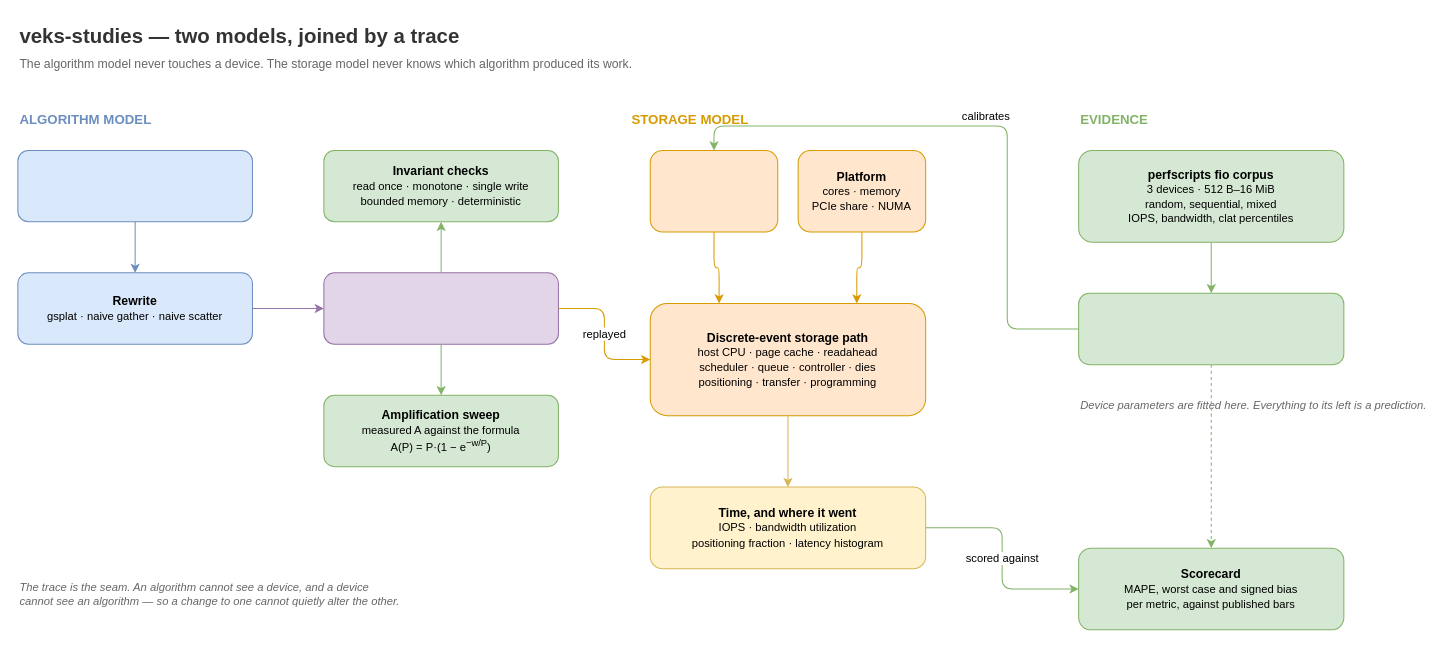
Image size: 1444x648. Some labels were removed from this diagram. Each missing label, with the centre of its shape:
"Geometry + Map records, record bytes, container bytes, a permutation" goes at [134,185].
"Hardware geometry, rates, ceilings, dies" goes at [713,190].
"Regimes measurement transcribed in the units fio reported it" goes at [1211,328].
"Trace every read, scatter and write as a virtual operation" goes at [440,308].
